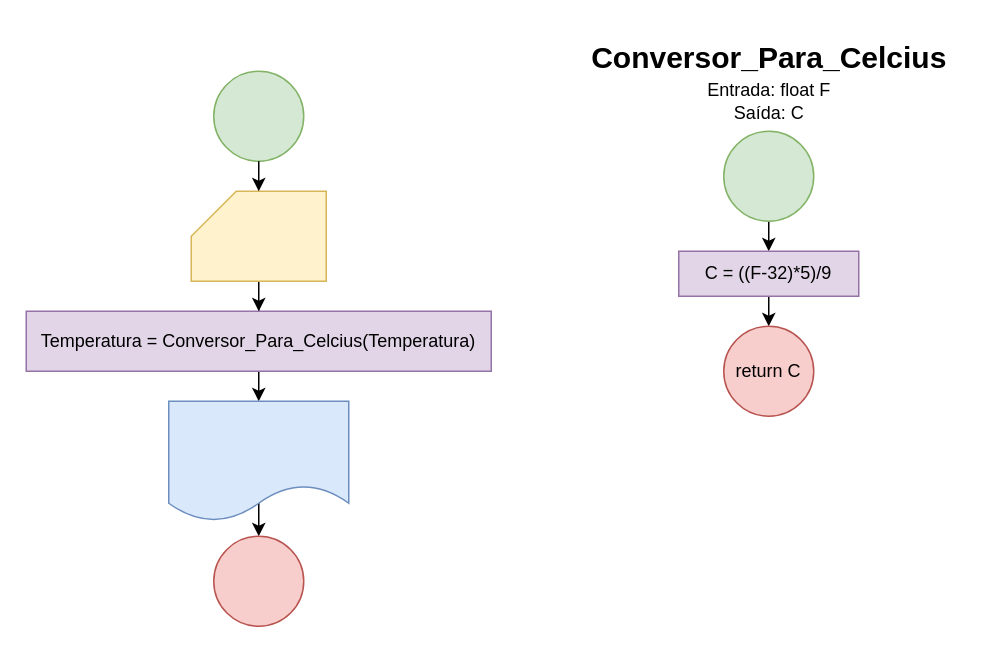
The diagram is 983 pixels wide and 653 high, and some of its shapes have lost their labels. The centre of each missing label's shape, as x and y in pixels:
" A temperatura digitada em Celcius é: "Temperatura"°C: (258,460)
Temperatura: (258,235)
